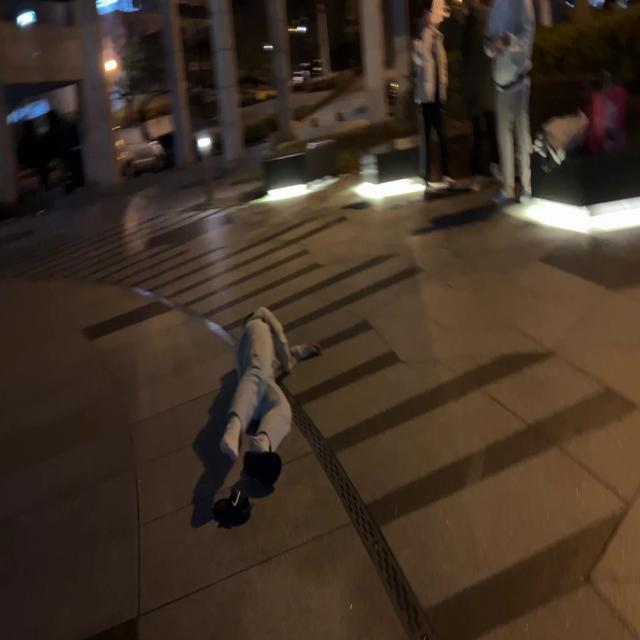Fall: (220, 307, 320, 488)
